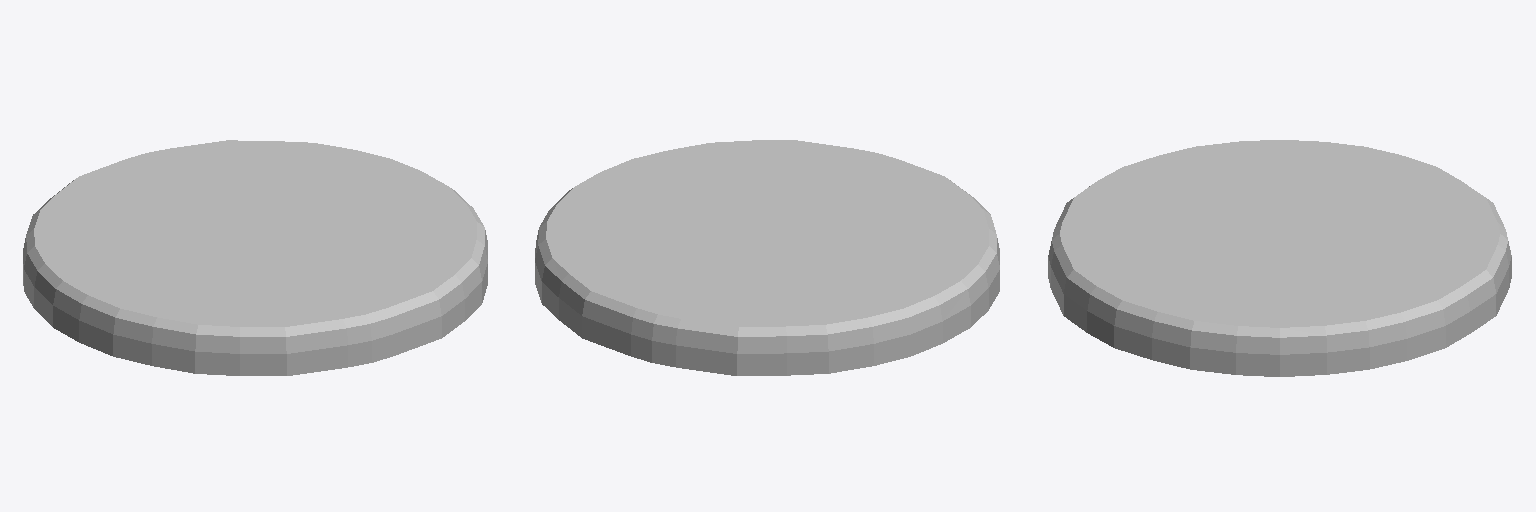
File: GalletaCinco.obj
The picture shows the model from 3 angles: view 1: azimuth 30°, elevation 25°; view 2: azimuth 150°, elevation 25°; view 3: azimuth 270°, elevation 25°; orthographic projection.
Visible parts, largest first — view 1: polySurface25 TapaTarro:polySurface4; view 2: polySurface25 TapaTarro:polySurface4; view 3: polySurface25 TapaTarro:polySurface4.
Part boxes in pixels (bbox=[...]): polySurface25 TapaTarro:polySurface4: bbox=[23, 140, 487, 375]; polySurface25 TapaTarro:polySurface4: bbox=[535, 140, 999, 375]; polySurface25 TapaTarro:polySurface4: bbox=[1048, 140, 1511, 376].
Bounding box in the file's own units: 0.2226 × 0.0233 × 0.2202.